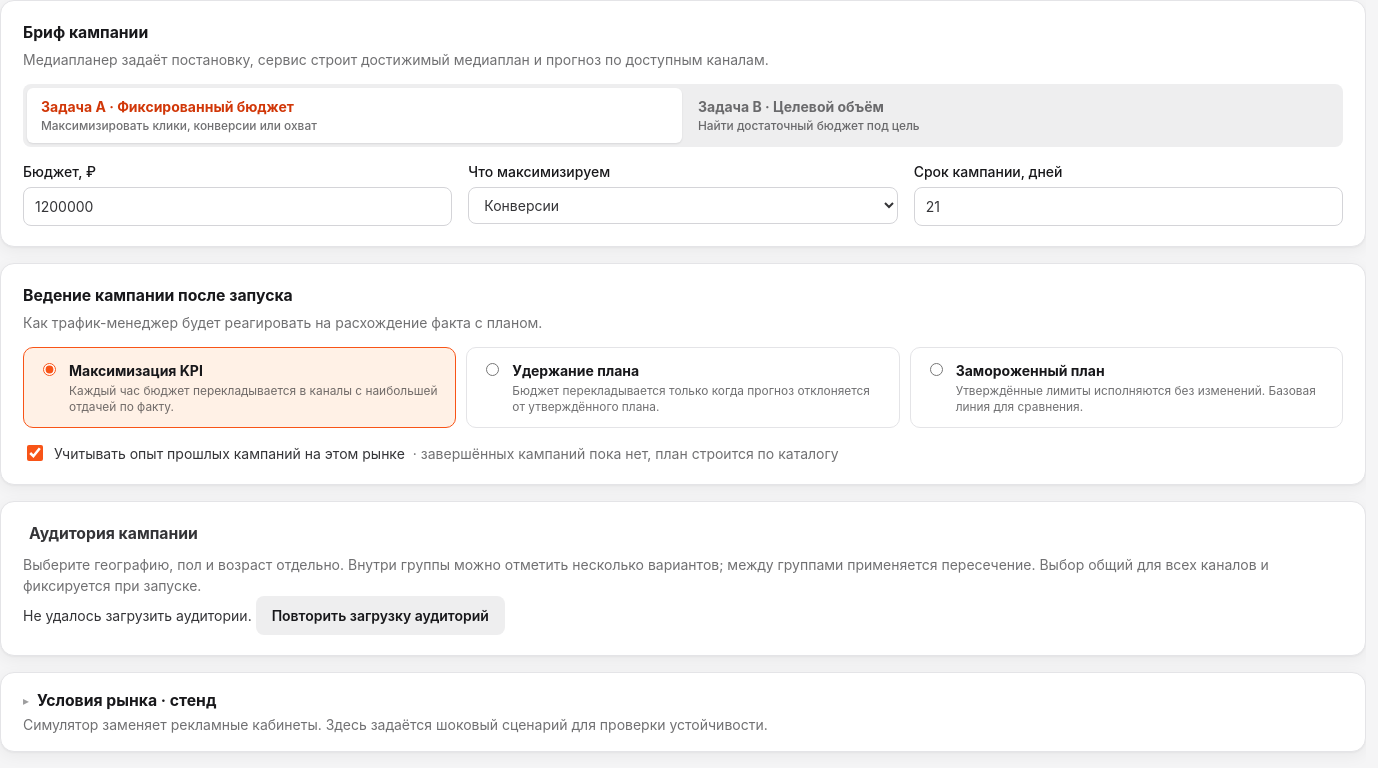
Scenario: business brief audience integration › blocks planning while the catalogue is unavailable and allows retry
Expected: the message "Не удалось загрузить аудитории. Повторить загрузку аудиторий" is shown, [23,596,505,635]
Click the button "Повторить загрузку аудиторий". click: click(380, 615)
box: [256,596,505,635]
(page scrolled)
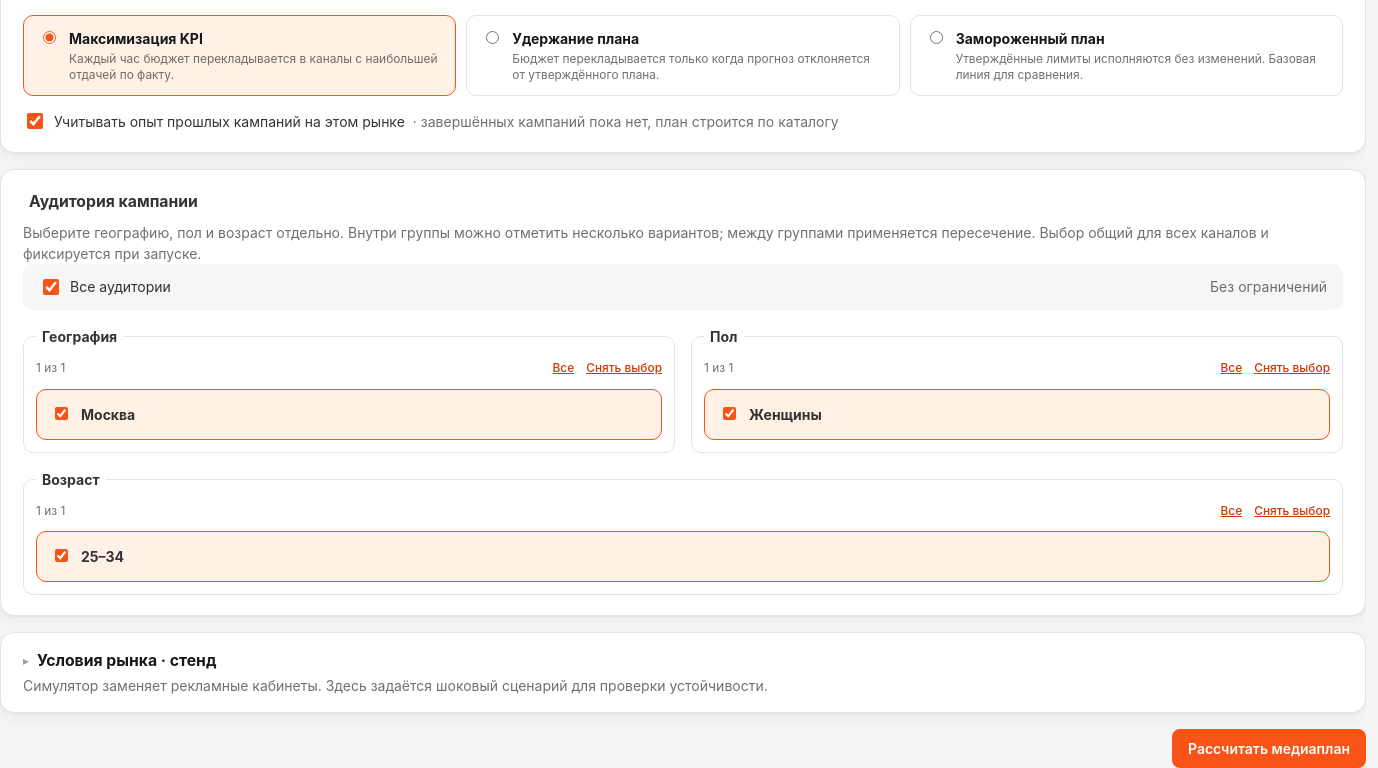
Expected: the button "Рассчитать медиаплан" is enabled, [1172,729,1366,767]
